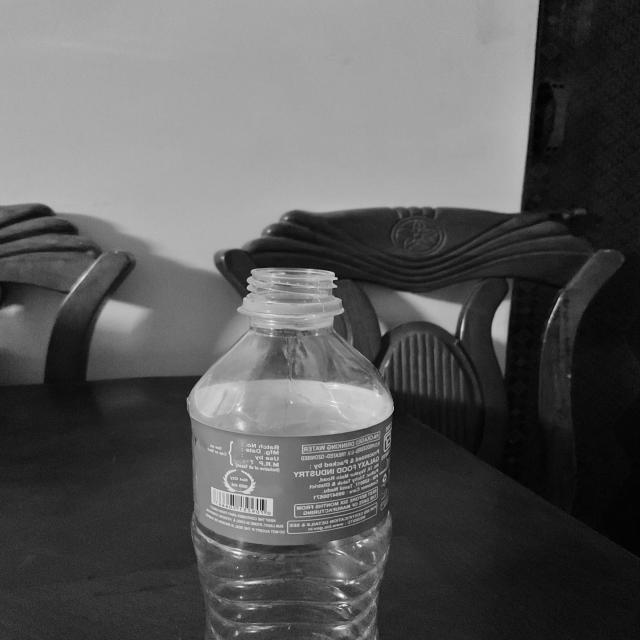open-cap: (238, 266, 344, 316)
